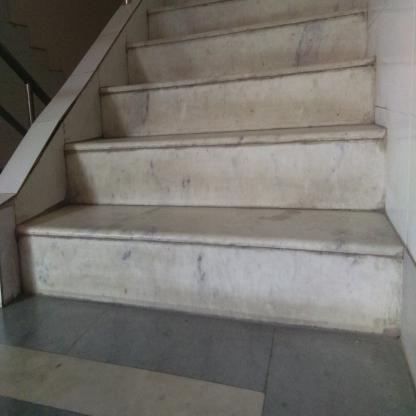stairs: (141, 31, 354, 334)
